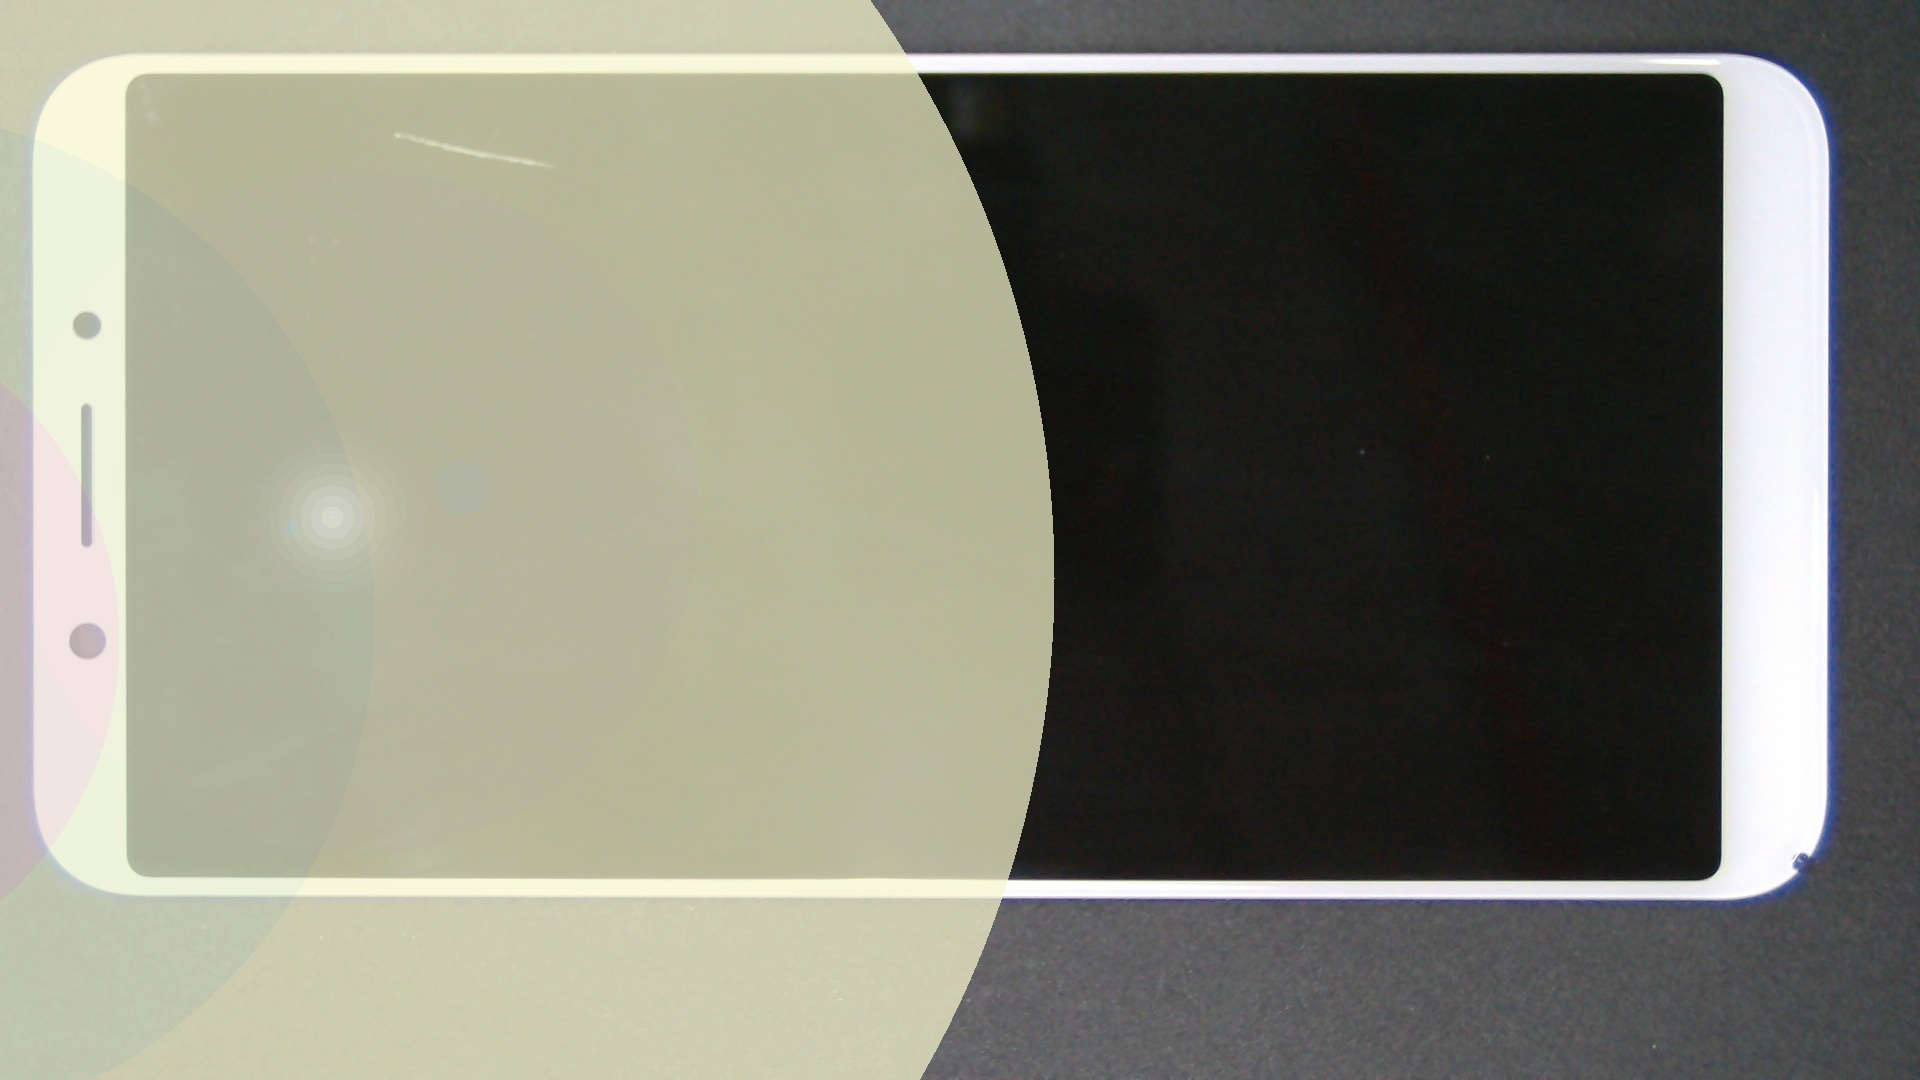oil: (199, 65, 595, 196)
